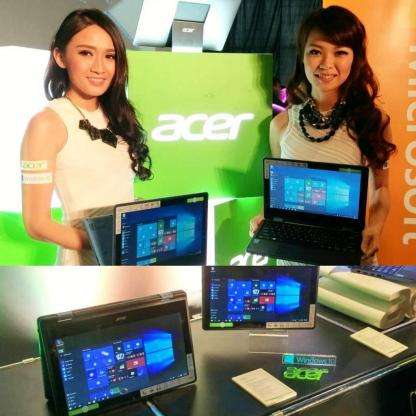board: (35, 288, 197, 416), (245, 156, 370, 265), (82, 192, 208, 265), (201, 264, 320, 330), (346, 266, 416, 283)
